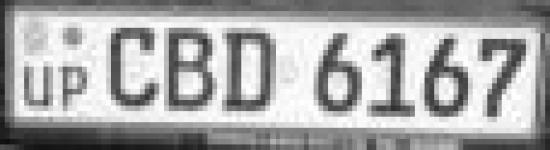1: (364, 29, 420, 124)
6: (305, 29, 364, 120), (421, 28, 474, 123)
7: (474, 31, 529, 125)
B: (162, 21, 220, 114)
C: (104, 21, 162, 113)
D: (220, 22, 281, 119)
P: (56, 58, 98, 115)
U: (20, 58, 57, 115)
